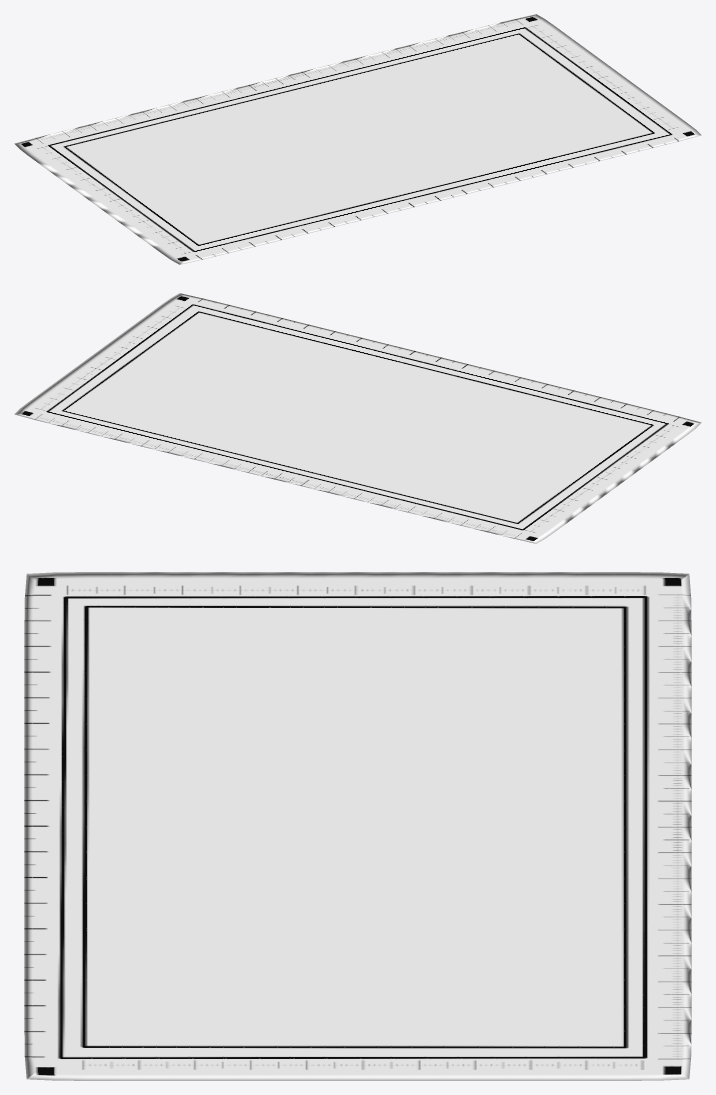
The model's file is level_select_page.glb.
3 renders of one model, top to bottom at view 1: azimuth 30°, elevation 25°; view 2: azimuth 150°, elevation 25°; view 3: azimuth 270°, elevation 25°, orthographic. The views are drawn at different scales.
Parts seen in each view (by area): view 1: page1; view 2: page1; view 3: page1.
Boxes of the visible parts, x1=… form: page1: x1=14, y1=14, x2=701, y2=264; page1: x1=14, y1=293, x2=701, y2=543; page1: x1=24, y1=572, x2=691, y2=1080.
Size of the model in its own units: 6.96 by 0.027 by 3.83.
1 material, 1 textured.
